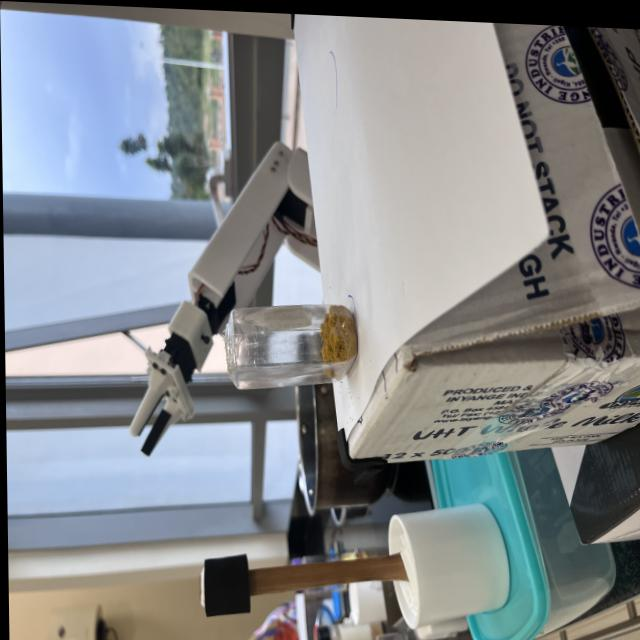curry_powder: (317, 296, 354, 386)
